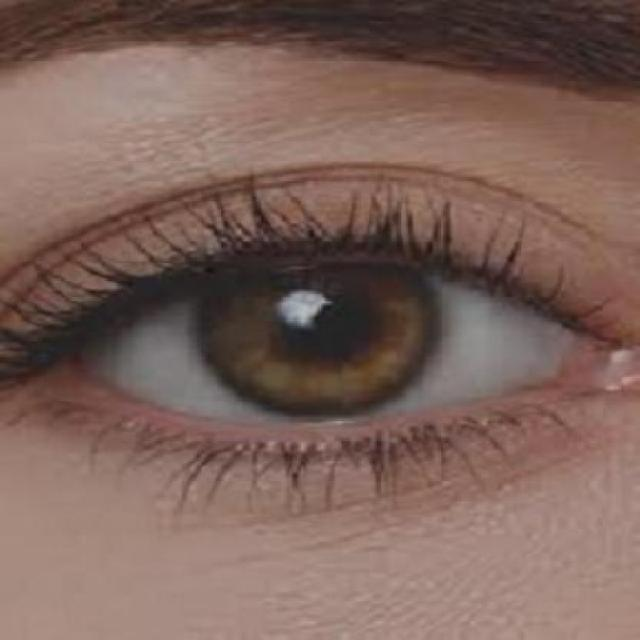awake: (46, 191, 639, 438)
